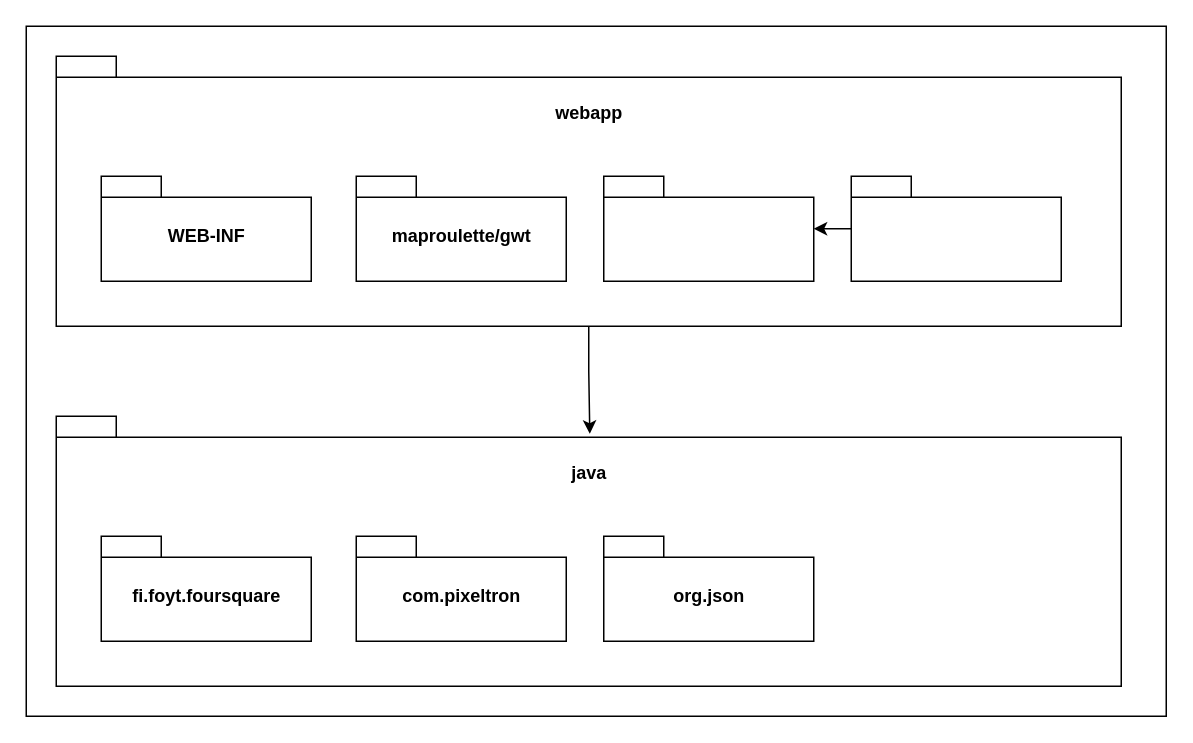
This 1193x743 diagram has some shape labels left out. Each missing label, with the centre of its shape:
assets: (x=708, y=228)
pages: (x=955, y=228)
